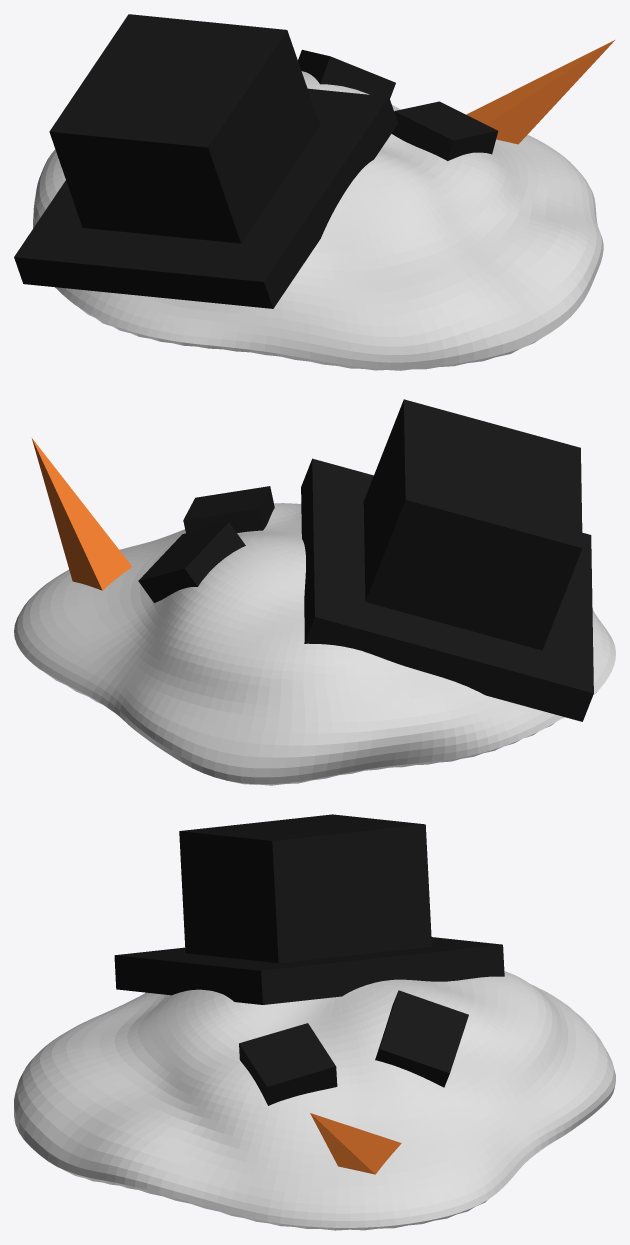
The model's file is snowLump.fbx.
3 views of the same model, one above another, from view 1: azimuth 30°, elevation 25°; view 2: azimuth 150°, elevation 25°; view 3: azimuth 270°, elevation 25° (orthographic). The views are drawn at different scales.
Visible parts, largest first — view 1: Cube; view 2: Cube; view 3: Cube.
Part boxes in pixels (x1=…): Cube: x1=14, y1=14, x2=614, y2=370; Cube: x1=14, y1=399, x2=615, y2=785; Cube: x1=14, y1=814, x2=615, y2=1230.
Bounding box in the file's own units: 274 × 118 × 253.
